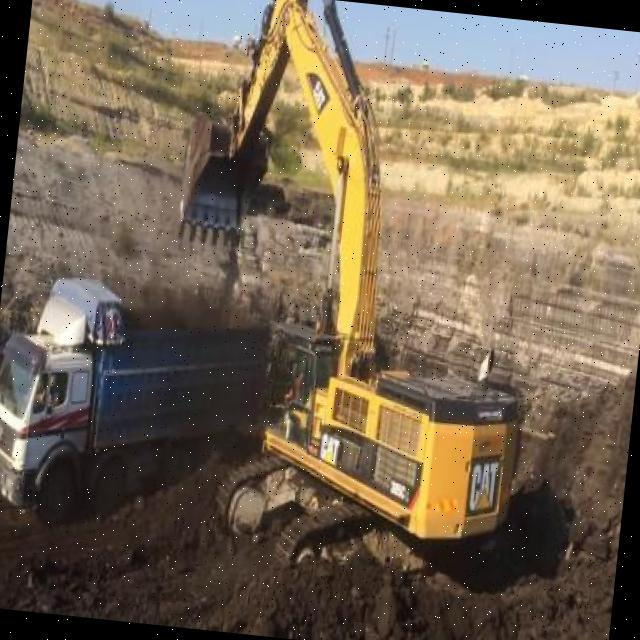Dump Truck: (0, 263, 258, 552)
Excavator: (140, 0, 568, 584)
